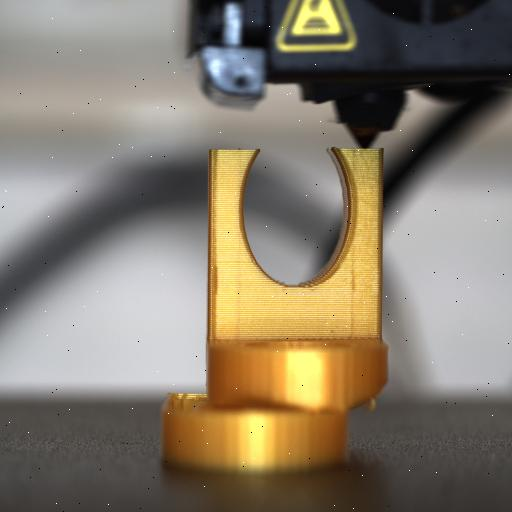layer_shift: (159, 385, 385, 423)
